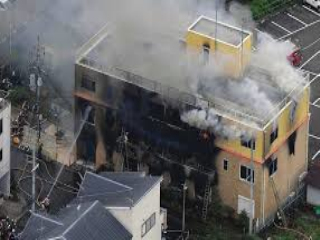smoke: (174, 22, 316, 143)
